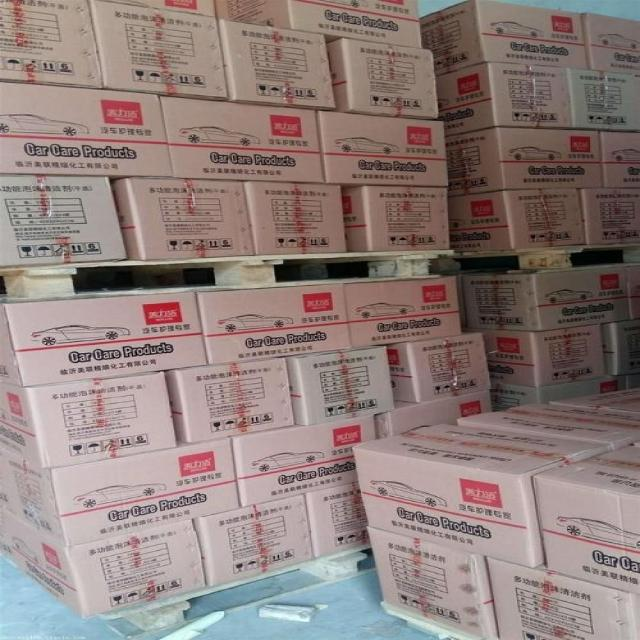box: (351, 423, 608, 569), (0, 436, 242, 543), (0, 509, 211, 615), (0, 292, 208, 384), (0, 370, 178, 470), (531, 441, 639, 591), (0, 81, 172, 175), (370, 526, 496, 638), (160, 98, 323, 184), (233, 412, 383, 505), (85, 3, 227, 100), (197, 283, 354, 362), (0, 175, 128, 270), (111, 177, 254, 260), (493, 559, 639, 639), (425, 0, 585, 72), (191, 496, 316, 586), (464, 265, 634, 331), (164, 359, 295, 444), (448, 127, 606, 195), (432, 60, 573, 134), (221, 18, 334, 110), (215, 1, 426, 49), (317, 111, 448, 186), (0, 0, 104, 90), (281, 345, 398, 425), (324, 37, 441, 116), (341, 275, 461, 346), (458, 403, 639, 449), (450, 189, 586, 249), (478, 323, 607, 386), (382, 331, 494, 401), (340, 184, 455, 251), (247, 181, 346, 255), (375, 388, 494, 436), (495, 370, 638, 408), (304, 483, 372, 559), (565, 66, 639, 131), (580, 186, 639, 244), (585, 15, 639, 75), (549, 387, 639, 414), (604, 129, 639, 188), (606, 318, 639, 377), (87, 1, 216, 16), (627, 263, 639, 317)
